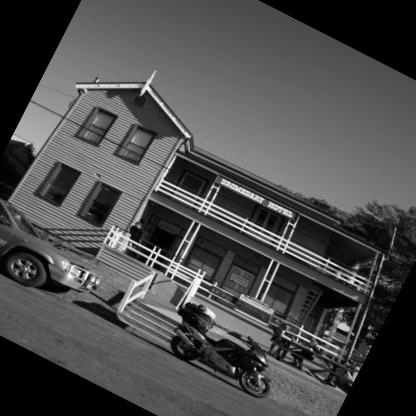car: (1, 183, 119, 329)
moto: (145, 283, 303, 416)
